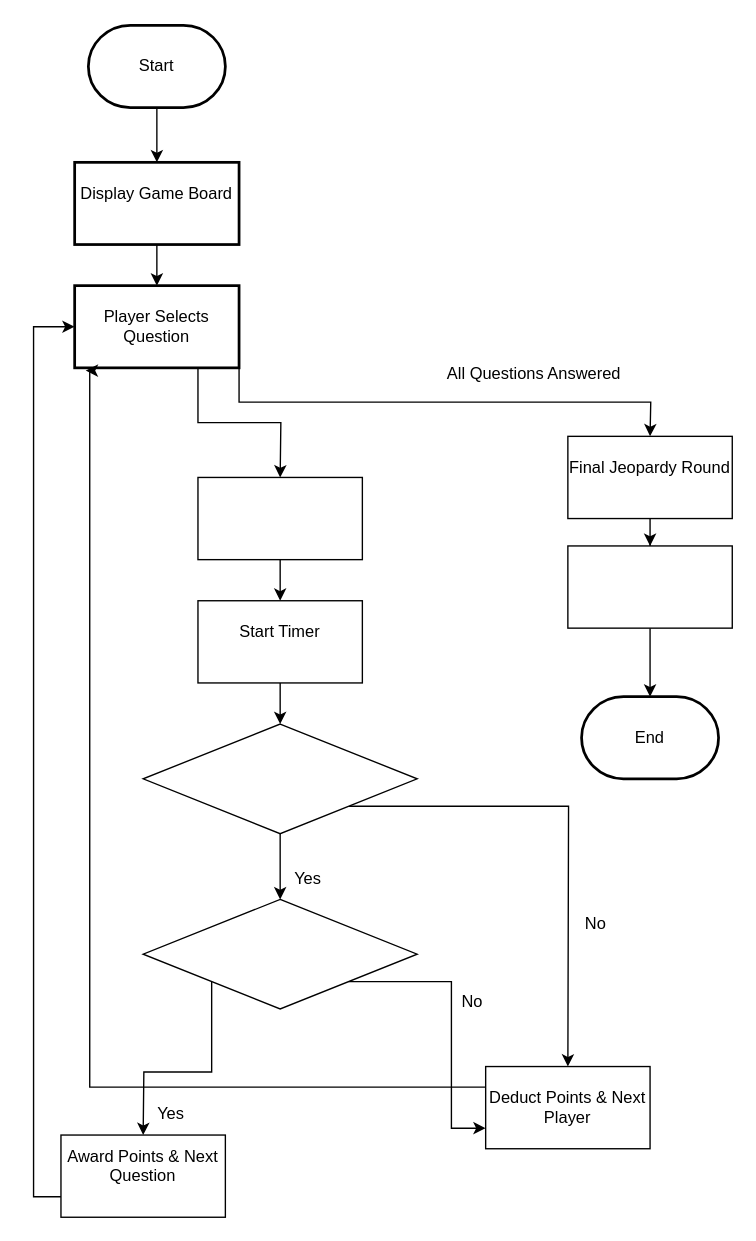
Image size: 756x1241. Some labels were removed from this diagram. The shapes that lost their labels are listed below. From the top down, each one's centre as x and y in pixels, then its label:
At point 279,518: "Display Question".
At point 649,586: "Declare Winner".
At point 279,778: "Player Responds?".
At point 279,953: "Correct Answer?".
